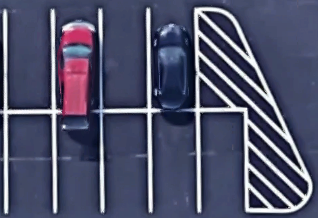Occupied: (52, 9, 102, 112), (149, 8, 196, 111)
Vacant: (149, 110, 200, 213), (4, 8, 54, 112), (198, 109, 248, 212), (5, 112, 55, 213), (53, 112, 103, 213), (102, 112, 151, 213), (101, 9, 149, 111)
